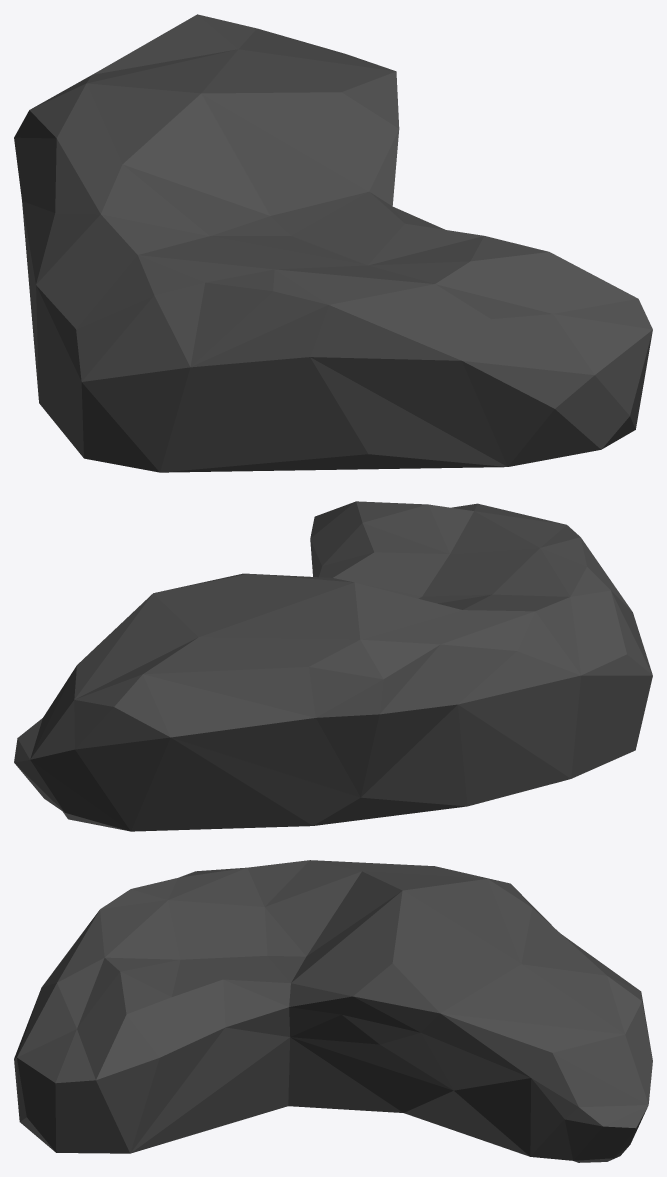
Rendered from 2020-09-08 WorldObjects.fbx_Rock3.fbx.
The picture shows the model from 3 angles, top to bottom: view 1: azimuth 30°, elevation 25°; view 2: azimuth 150°, elevation 25°; view 3: azimuth 270°, elevation 25°; orthographic projection. The views are drawn at different scales.
Visible parts, largest first — view 1: Rock3; view 2: Rock3; view 3: Rock3.
Boxes of the visible parts, x1=… form: Rock3: x1=14, y1=14, x2=652, y2=472; Rock3: x1=14, y1=501, x2=652, y2=831; Rock3: x1=14, y1=860, x2=652, y2=1162.
Size of the model in its own units: 7.35 by 3.18 by 9.93.
